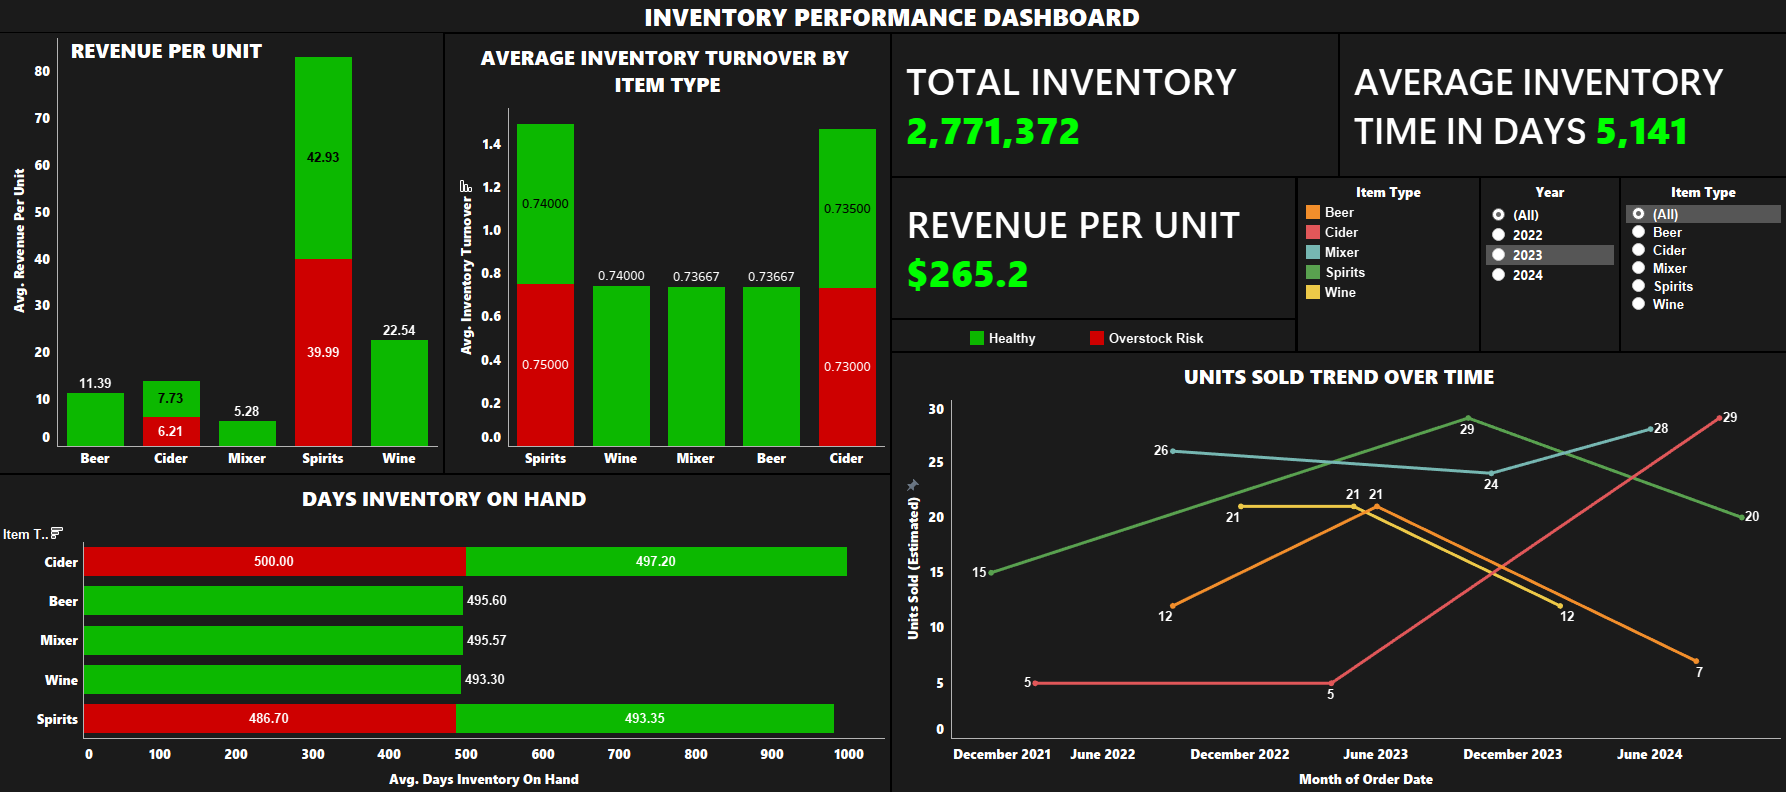

This screenshot's page, from the dashboard's own definition file:
{"tool":"tableau","page":{"name":"Dashboard","canvas":[1790,802],"ordinal":0},"visuals":[{"type":"title","box":[0,0,1790,34]},{"type":"text","box":[71,16,242,70]},{"type":"worksheet","title":"Revenue Per Unit Chart","mark":"Automatic","rows":["revenue_per_unit"],"cols":["item_type"],"box":[0,34,447.2,441.3]},{"type":"worksheet","title":"Inventory Turnover Chart","mark":"Automatic","rows":["inventory_turnover"],"cols":["item_type"],"box":[447.2,34,447.2,441.3]},{"type":"worksheet","title":"Total Inventory","mark":"Text","box":[894.5,34,447.8,143.8]},{"type":"worksheet","title":"Average Inventory Value","mark":"Text","box":[1342.2,34,447.8,143.8]},{"type":"worksheet","title":"Revenue Per Unit","mark":"Text","box":[894.5,177.8,405.1,142.1]},{"type":"legend","title":"Units Sold Trend","param":"[federated.0l0fn51101c3no1c8yes81dkcvah].[none:item_type:nk]","box":[1299.5,177.8,183.4,175.1]},{"type":"filter","title":"Average Inventory Value","param":"[federated.0l0fn51101c3no1c8yes81dkcvah].[none:year:ok]","box":[1482.9,177.8,140.4,175.1]},{"type":"filter","title":"Average Inventory Value","param":"[federated.0l0fn51101c3no1c8yes81dkcvah].[none:item_type:nk]","box":[1623.4,177.8,166.6,175.1]},{"type":"legend","title":"Inventory Turnover Chart","param":"[federated.0l0fn51101c3no1c8yes81dkcvah].[none:stock_status:nk]","box":[894.5,319.9,405.1,33]},{"type":"worksheet","title":"Units Sold Trend","mark":"Line","rows":["Calculation_1789617964890722304"],"cols":["Calculation_1789617964891123713"],"box":[894.5,352.9,895.5,449.1]},{"type":"worksheet","title":"Days Inventory on Hand Chart","mark":"Bar","rows":["item_type"],"cols":["days_inventory_on_hand"],"box":[0,475.3,894.5,326.7]}]}

Visuals, with their boxes in screenshot pixels (x1, y1, x2, y2), scaled from the page's 1790x802 canvas onto the 1786x792 screenshot:
title: (0, 0, 1785, 34)
text: (71, 16, 312, 85)
"Revenue Per Unit Chart" worksheet: (0, 34, 446, 469)
"Inventory Turnover Chart" worksheet: (446, 34, 892, 469)
"Total Inventory" worksheet (Text marks): (893, 34, 1339, 176)
"Average Inventory Value" worksheet (Text marks): (1339, 34, 1785, 176)
"Revenue Per Unit" worksheet (Text marks): (893, 176, 1297, 316)
"Units Sold Trend" legend: (1297, 176, 1480, 348)
"Average Inventory Value" filter: (1480, 176, 1620, 348)
"Average Inventory Value" filter: (1620, 176, 1785, 348)
"Inventory Turnover Chart" legend: (893, 316, 1297, 348)
"Units Sold Trend" worksheet (Line marks): (893, 348, 1785, 791)
"Days Inventory on Hand Chart" worksheet (Bar marks): (0, 469, 893, 791)
